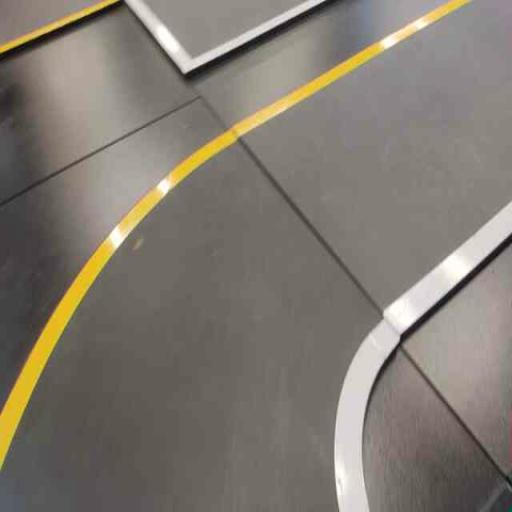right: (0, 100, 505, 511)
